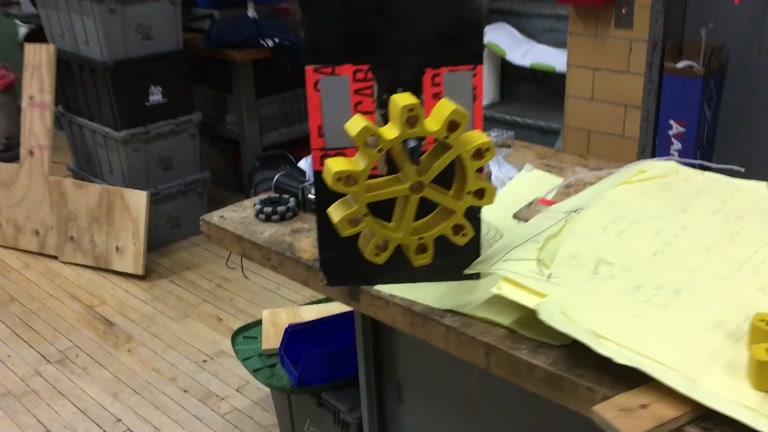gear: (321, 90, 497, 268)
